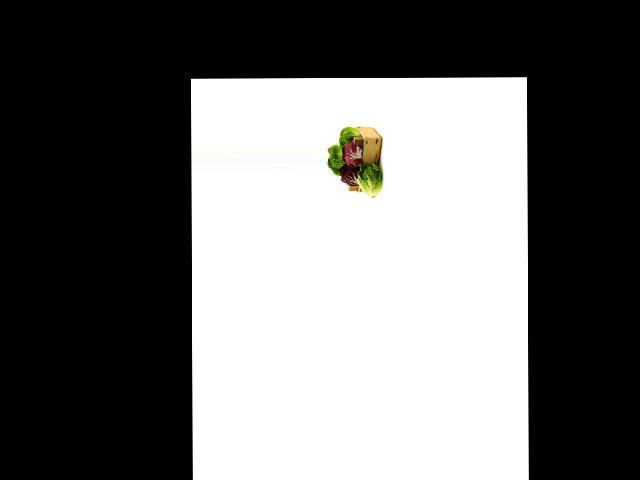lettuce: (327, 144, 348, 175)
